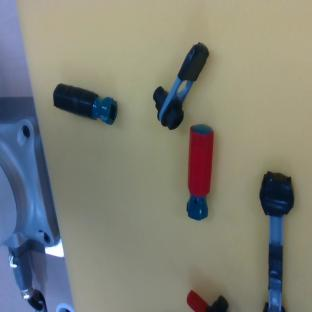part_1_bad: (143, 33, 212, 133)
part_1_good: (184, 289, 230, 312)
part_2_bad: (49, 80, 121, 126)
part_2_good: (183, 124, 215, 220)
part_3_bad: (259, 171, 293, 311)
